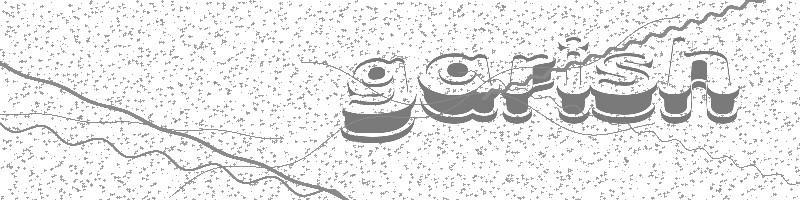a: (417, 45, 503, 121)
g: (341, 56, 417, 152)
h: (659, 34, 741, 142)
i: (560, 39, 593, 129)
r: (502, 51, 557, 125)
s: (589, 50, 659, 130)
